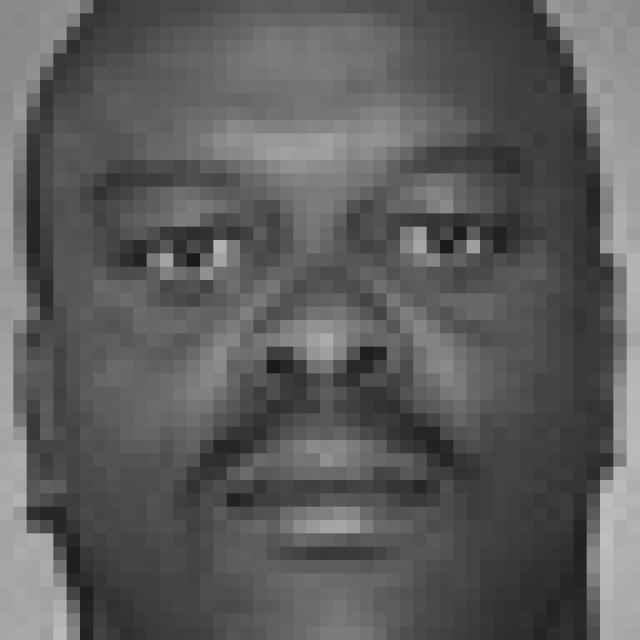neutral: (81, 130, 547, 571)
